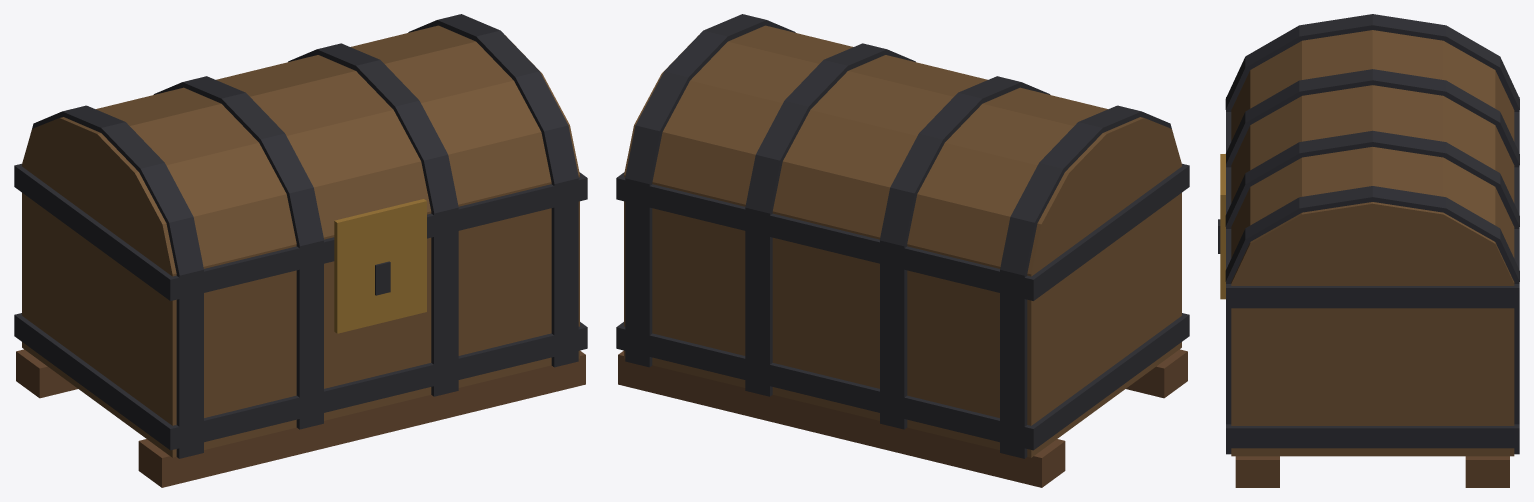
Rendered from Strongbox.fbx.
The picture shows the model from 3 angles, left to right: view 1: azimuth 30°, elevation 25°; view 2: azimuth 150°, elevation 25°; view 3: azimuth 270°, elevation 25°; orthographic projection. The views are drawn at different scales.
Visible parts, largest first — view 1: Strongbox; view 2: Strongbox; view 3: Strongbox.
Boxes of the visible parts, x1,y1,x2,y2 form: Strongbox: (14,14,587,487); Strongbox: (616,14,1189,487); Strongbox: (1218,14,1519,487).
Bounding box in the file's own units: 1.04 × 0.712 × 0.6828.
